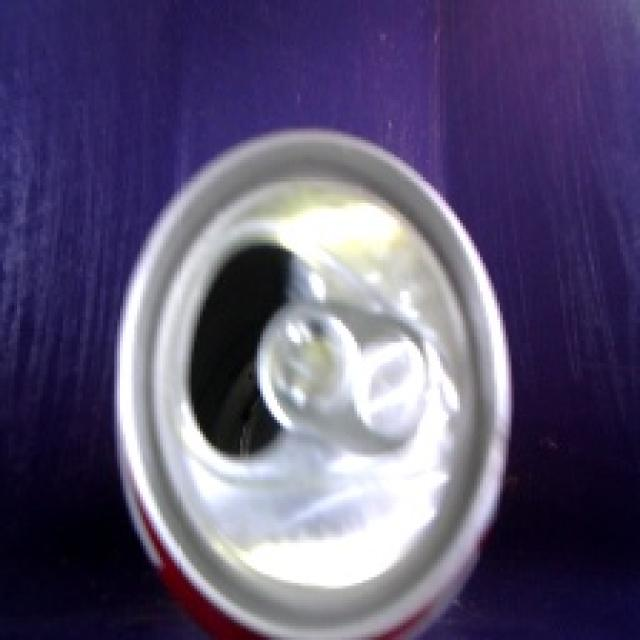metal: (92, 114, 537, 640)
